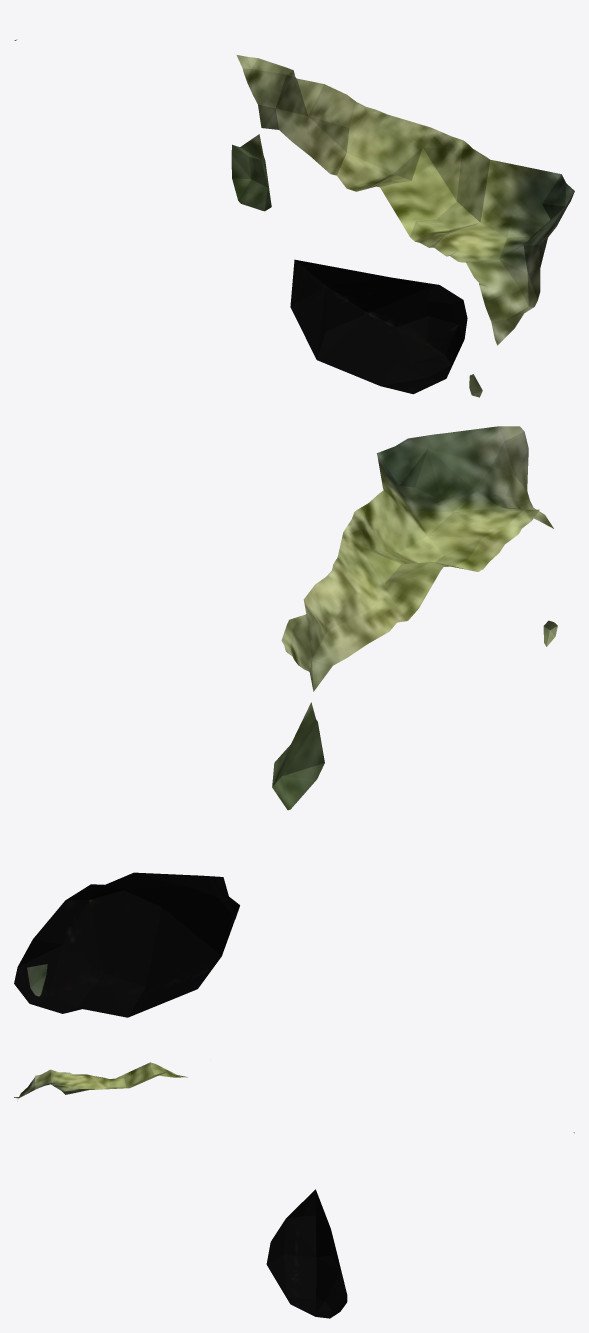
3 views of the same model, one above another, from view 1: azimuth 30°, elevation 25°; view 2: azimuth 150°, elevation 25°; view 3: azimuth 270°, elevation 25° (orthographic). The views are drawn at different scales.
Size of the model in its own units: 1.63 by 2.48 by 5.9.
1 material, 1 textured.
